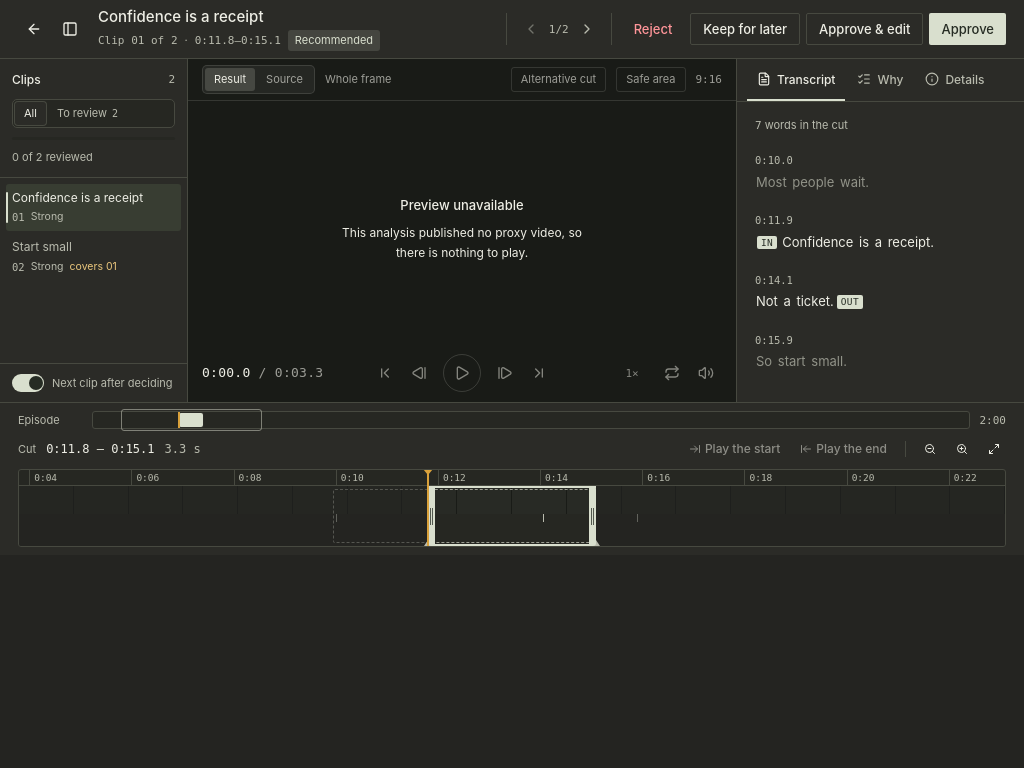
Test: reading the clip › plays from any word
The image size is (1024, 768).
Click the text with class "review-word" showing "ticket." at {"x": 815, "y": 301}, box [796,293,835,309]
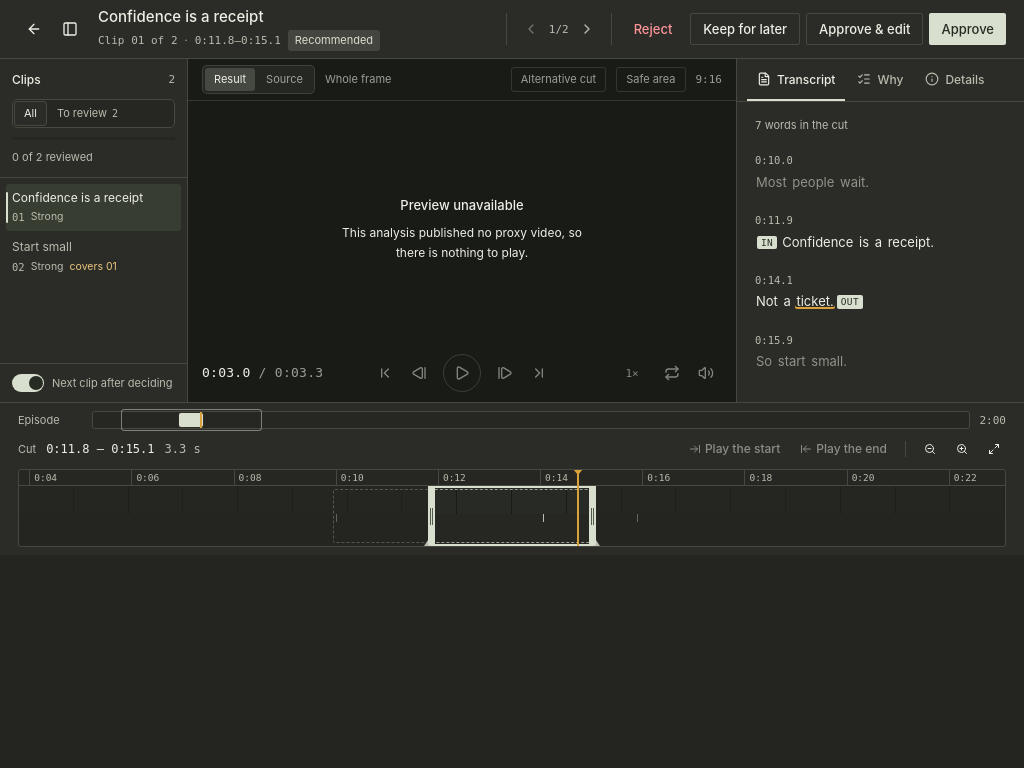
Check: the element with test id "timecode" reads "0:03.0 / 0:03.3", box [202,365,323,380]
